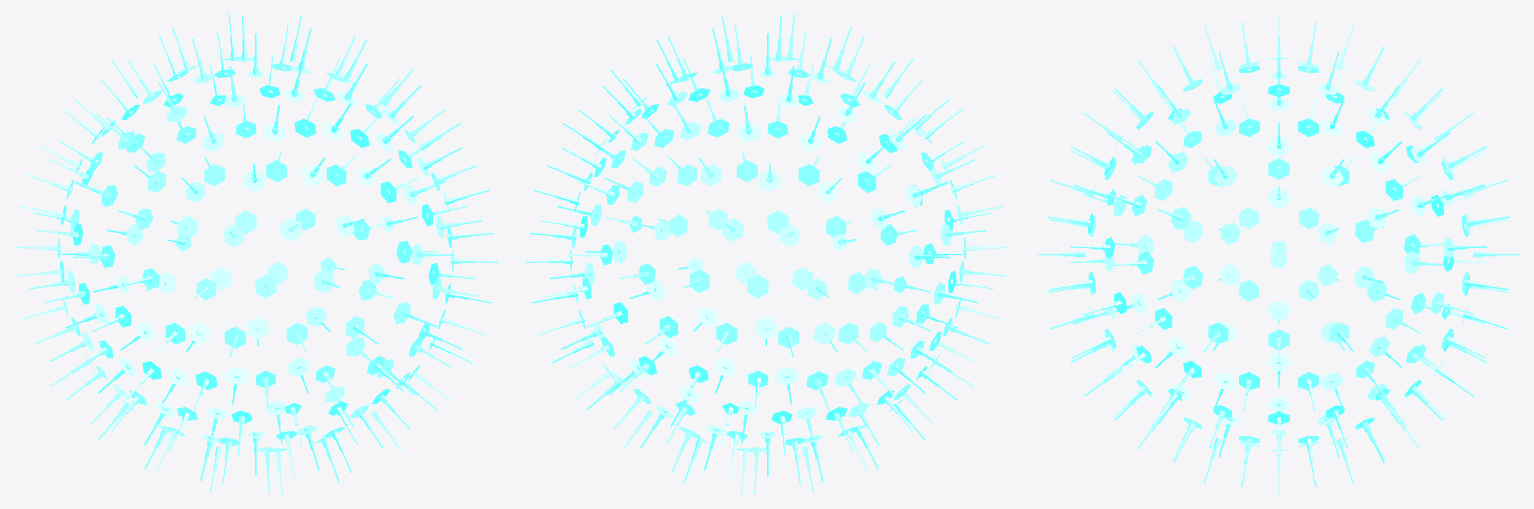
3 renders of one model, left to right at view 1: azimuth 30°, elevation 25°; view 2: azimuth 150°, elevation 25°; view 3: azimuth 270°, elevation 25°, orthographic.
Parts seen in each view (by area): view 1: neon-sphereBase; view 2: neon-sphereBase; view 3: neon-sphereBase.
Boxes of the visible parts, left/top/right/bottom form: neon-sphereBase: left=57, top=56, right=453, bottom=451; neon-sphereBase: left=570, top=56, right=966, bottom=451; neon-sphereBase: left=1088, top=58, right=1469, bottom=450.
Size of the model in its own units: 0.6238 by 0.6258 by 0.624.
